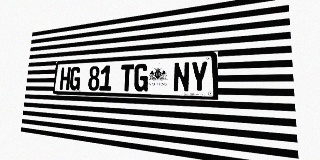1: (99, 65, 112, 91)
8: (88, 66, 100, 91)
G: (134, 63, 148, 91), (69, 67, 81, 90)
H: (59, 67, 71, 90)
N: (173, 62, 190, 92)
T: (120, 64, 134, 91)
Y: (190, 61, 208, 93)
